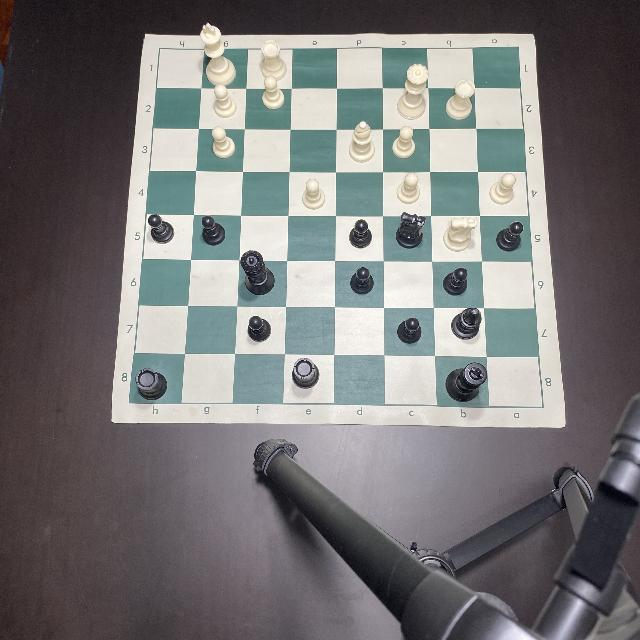black-bishop: (451, 307, 483, 339)
black-king: (445, 362, 487, 403)
black-knight: (396, 212, 426, 248)
black-pawn: (148, 212, 175, 244), (442, 267, 470, 295), (495, 222, 523, 250), (245, 315, 272, 343), (199, 216, 225, 244), (347, 219, 371, 249), (351, 266, 374, 294), (397, 318, 423, 338)
black-queen: (240, 250, 276, 296)
black-rook: (134, 368, 168, 399), (292, 348, 320, 374)
board: (117, 35, 567, 428)
white-bishop: (350, 120, 376, 162)
white-king: (200, 22, 237, 86)
white-knight: (444, 216, 478, 252)
white-pawn: (258, 77, 286, 109), (212, 84, 238, 118), (210, 127, 237, 159), (300, 178, 326, 210), (490, 173, 516, 204), (392, 126, 416, 158), (397, 173, 421, 203)
white-queen: (398, 64, 427, 118)
white-rook: (256, 41, 288, 81), (446, 78, 474, 120)
